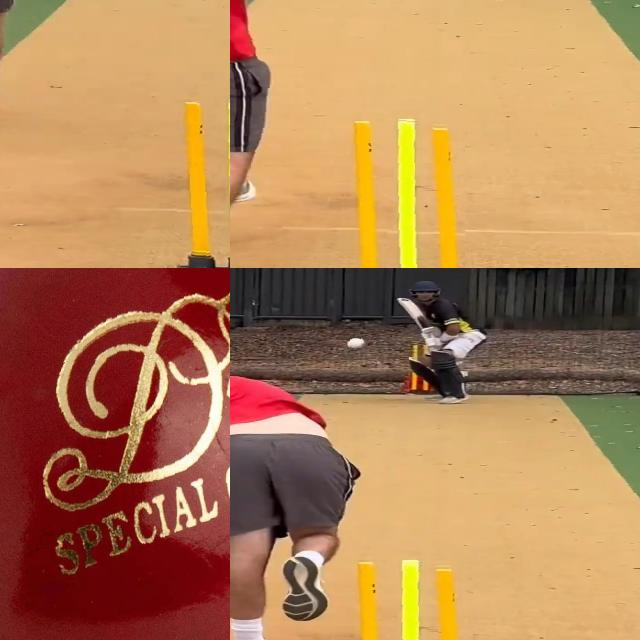Cricket ball: (0, 268, 230, 640), (344, 337, 367, 353)
Stumps: (339, 118, 464, 268), (156, 97, 230, 268), (339, 560, 473, 640)
